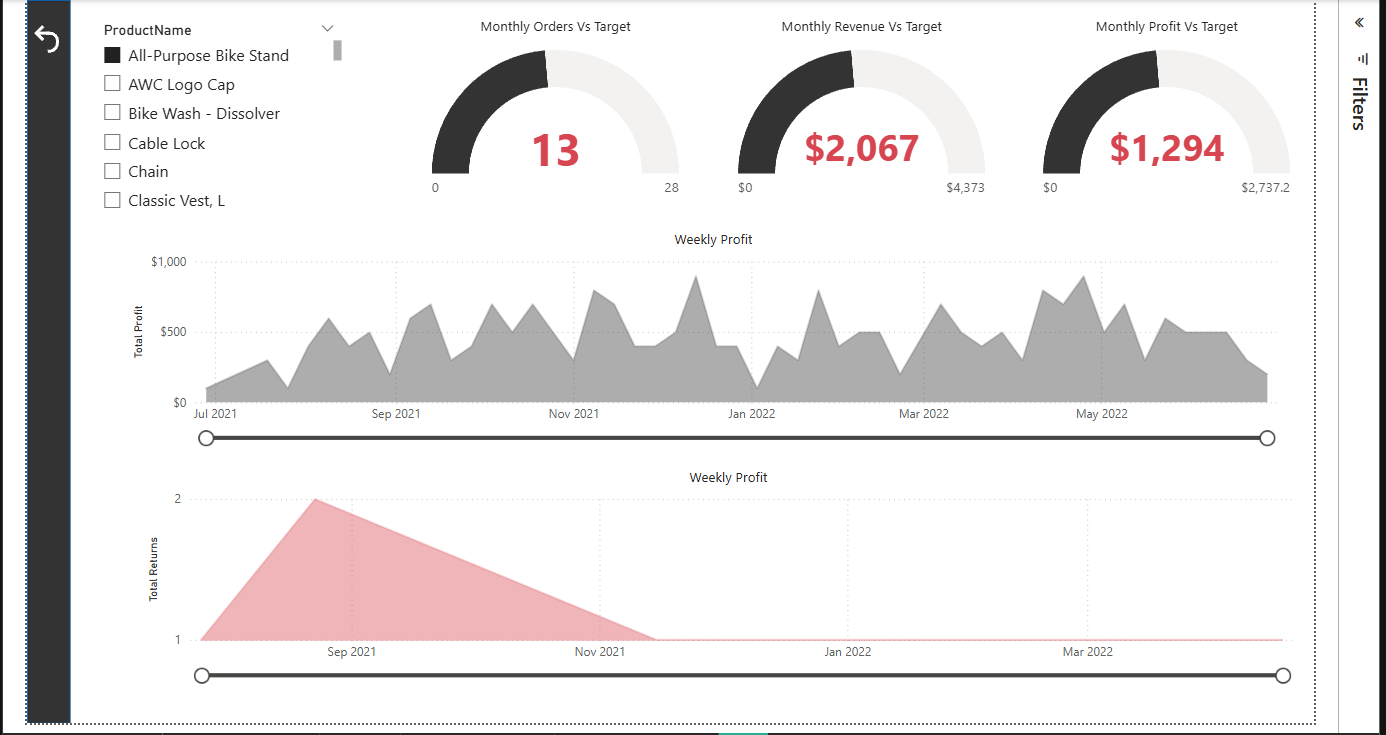

This screenshot's page, from the dashboard's own definition file:
{"tool":"powerbi","page":{"name":"Product Details","canvas":[1280,720],"ordinal":2},"visuals":[{"type":"shape","box":[0,0,43.5,720.3],"z":0},{"type":"slicer","fields":{"Values":["Product Lookup.ProductName"]},"box":[64,15.6,254.6,200.5],"z":1000},{"type":"gauge","title":"Monthly Orders Vs Target","fields":{"Y":["Measure Table.Total Orders"],"MaxValue":["Measure Table.Order Target"]},"box":[398.2,15.6,256,200.5],"z":2000},{"type":"gauge","title":"Monthly Revenue Vs Target","fields":{"Y":["Measure Table.Total Revenue"],"MaxValue":["Measure Table.Revenue Target"]},"box":[702.6,15.6,256,200.5],"z":3000},{"type":"gauge","title":"Monthly Profit Vs Target","fields":{"Y":["Measure Table.Total Profit"],"MaxValue":["Measure Table.Profit Target"]},"box":[1006.9,15.6,256,200.5],"z":4000},{"type":"areaChart","title":"Weekly Profit","fields":{"Y":["Measure Table.Total Profit"],"Category":[" Calendar Lookup.Start of Week"]},"box":[101,229,1164.8,217.6],"z":5000},{"type":"areaChart","title":"Weekly Profit","fields":{"Y":["Measure Table.Total Returns"],"Category":[" Calendar Lookup.Start of Week"]},"box":[115.2,465.1,1164.8,217.6],"z":6000},{"type":"actionButton","box":[1.2,19.9,43.5,37.3],"z":7000}]}

Visuals, with their boxes on the page's 1280x720 design canvas (x1, y1, x2, y2). These are canvas units, not pixel positions in the 1386x735 screenshot, which may show the page scaled, cropped or inside an application window:
shape: 0:0:44:720
slicer - Product Lookup.ProductName: 64:16:319:216
"Monthly Orders Vs Target" gauge: 398:16:654:216
"Monthly Revenue Vs Target" gauge: 703:16:959:216
"Monthly Profit Vs Target" gauge: 1007:16:1263:216
"Weekly Profit" areaChart: 101:229:1266:447
"Weekly Profit" areaChart: 115:465:1280:683
actionButton: 1:20:45:57
